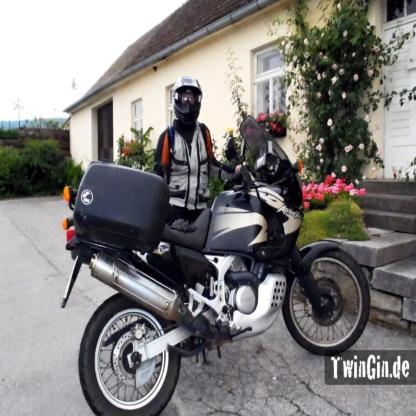Helmet: (169, 78, 205, 125)
